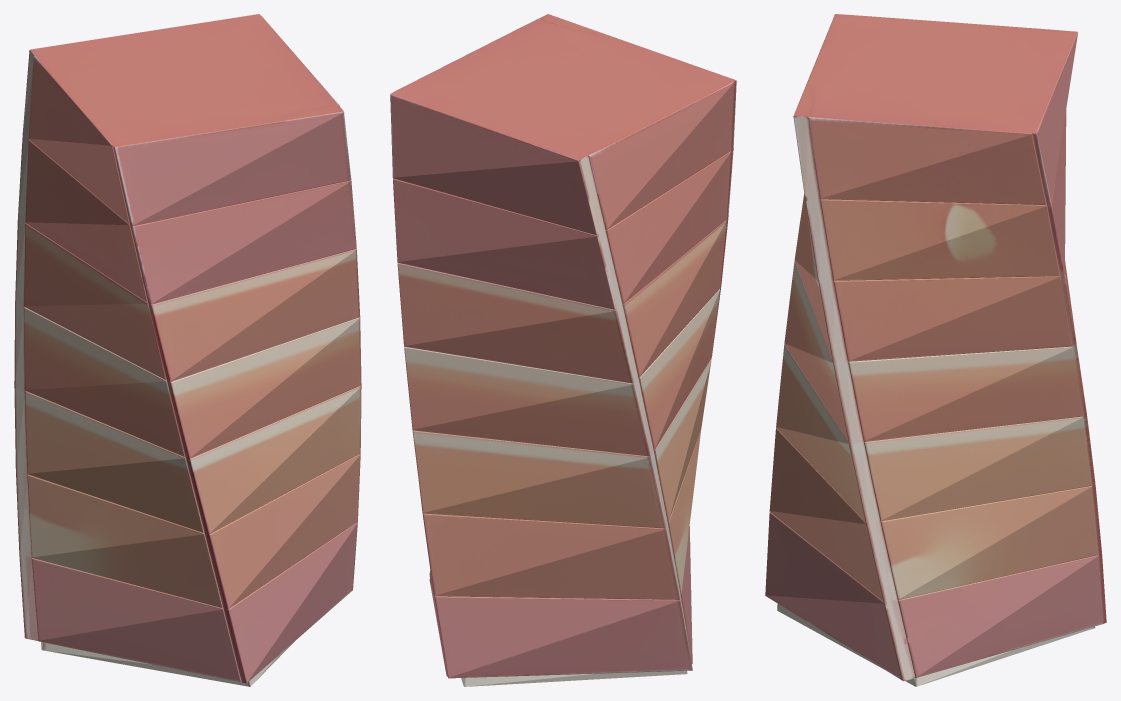
File: edited_mesh.glb
The picture shows the model from 3 angles, left to right: view 1: azimuth 30°, elevation 25°; view 2: azimuth 150°, elevation 25°; view 3: azimuth 270°, elevation 25°; orthographic projection.
Parts seen in each view (by area): view 1: normalized_model.obj; view 2: normalized_model.obj; view 3: normalized_model.obj.
Boxes of the visible parts, left/top/right/bottom form: normalized_model.obj: left=14, top=14, right=361, bottom=686; normalized_model.obj: left=390, top=14, right=736, bottom=686; normalized_model.obj: left=765, top=14, right=1106, bottom=686.
Size of the model in its own units: 0.8834 by 1.56 by 0.8848.
1 material, 1 textured.
